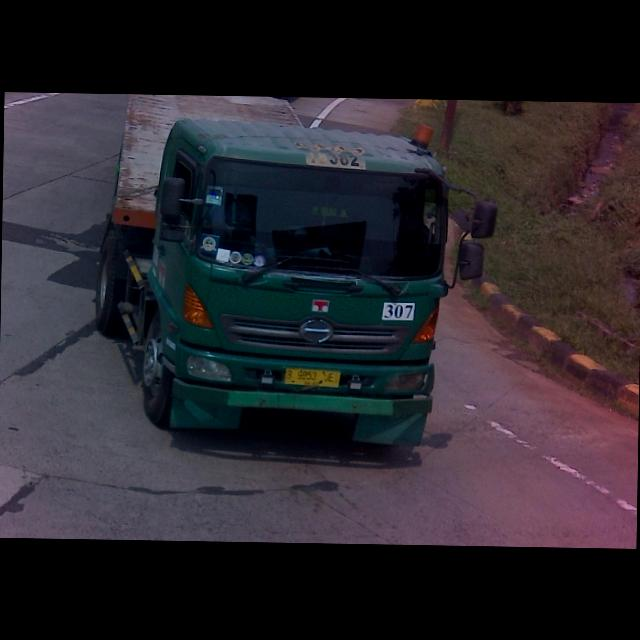plate: (284, 367, 343, 391)
